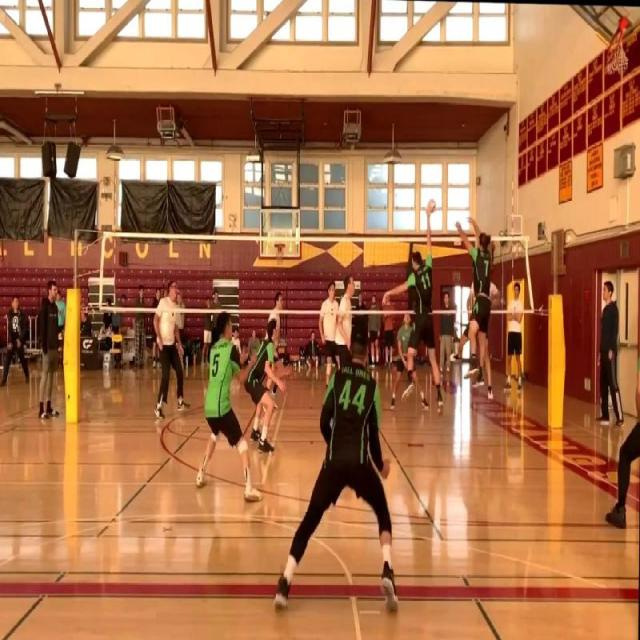volleyball: (428, 200, 436, 213)
